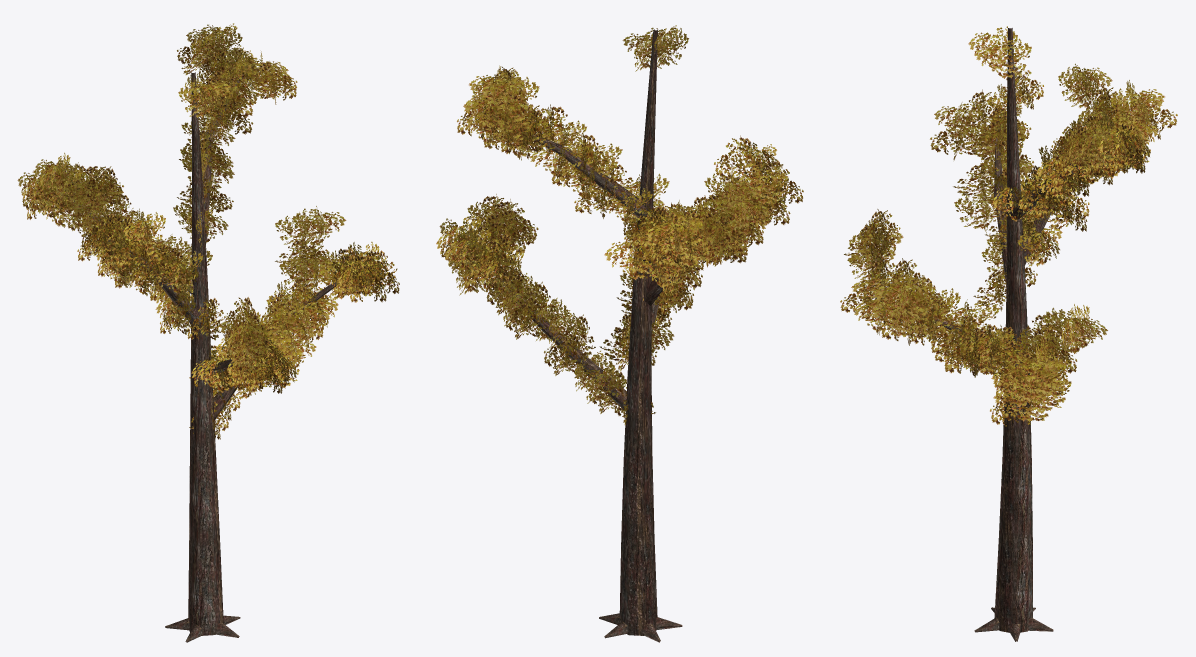
The model's file is tree_3d_06_yellow_lod1.glb.
3 renders of one model, left to right at view 1: azimuth 30°, elevation 25°; view 2: azimuth 150°, elevation 25°; view 3: azimuth 270°, elevation 25°, orthographic. The views are drawn at different scales.
Visible parts, largest first — view 1: foliage_cards, wood_geometry; view 2: foliage_cards, wood_geometry; view 3: foliage_cards, wood_geometry.
Part boxes in pixels (x1=…): foliage_cards: x1=17, y1=23, x2=399, y2=439; wood_geometry: x1=73, y1=70, x2=345, y2=642; foliage_cards: x1=436, y1=25, x2=803, y2=424; wood_geometry: x1=471, y1=30, x2=769, y2=642; foliage_cards: x1=840, y1=26, x2=1177, y2=427; wood_geometry: x1=875, y1=28, x2=1109, y2=641.
Size of the model in its own units: 5.11 by 8.05 by 4.24.
Materials: 2 (2 with a texture image).
